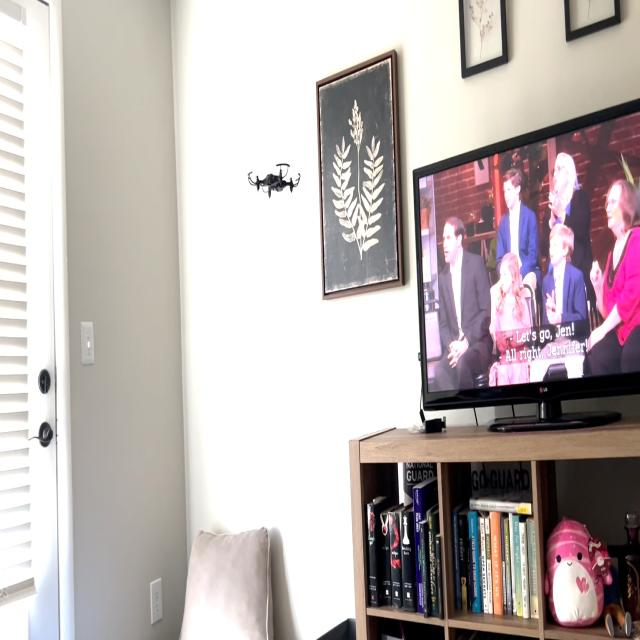drone: (236, 150, 310, 205)
